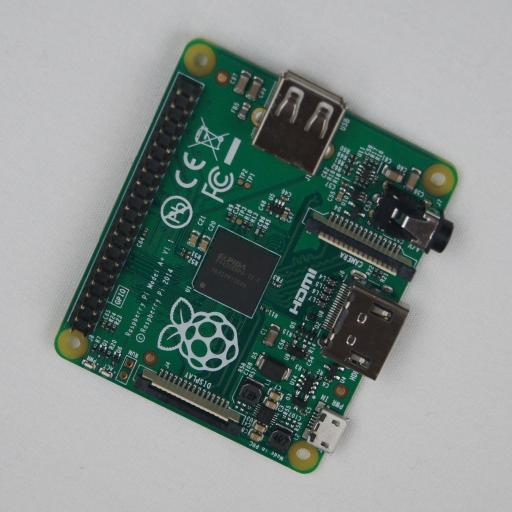Raspberry Pi A-: (54, 38, 458, 474)
